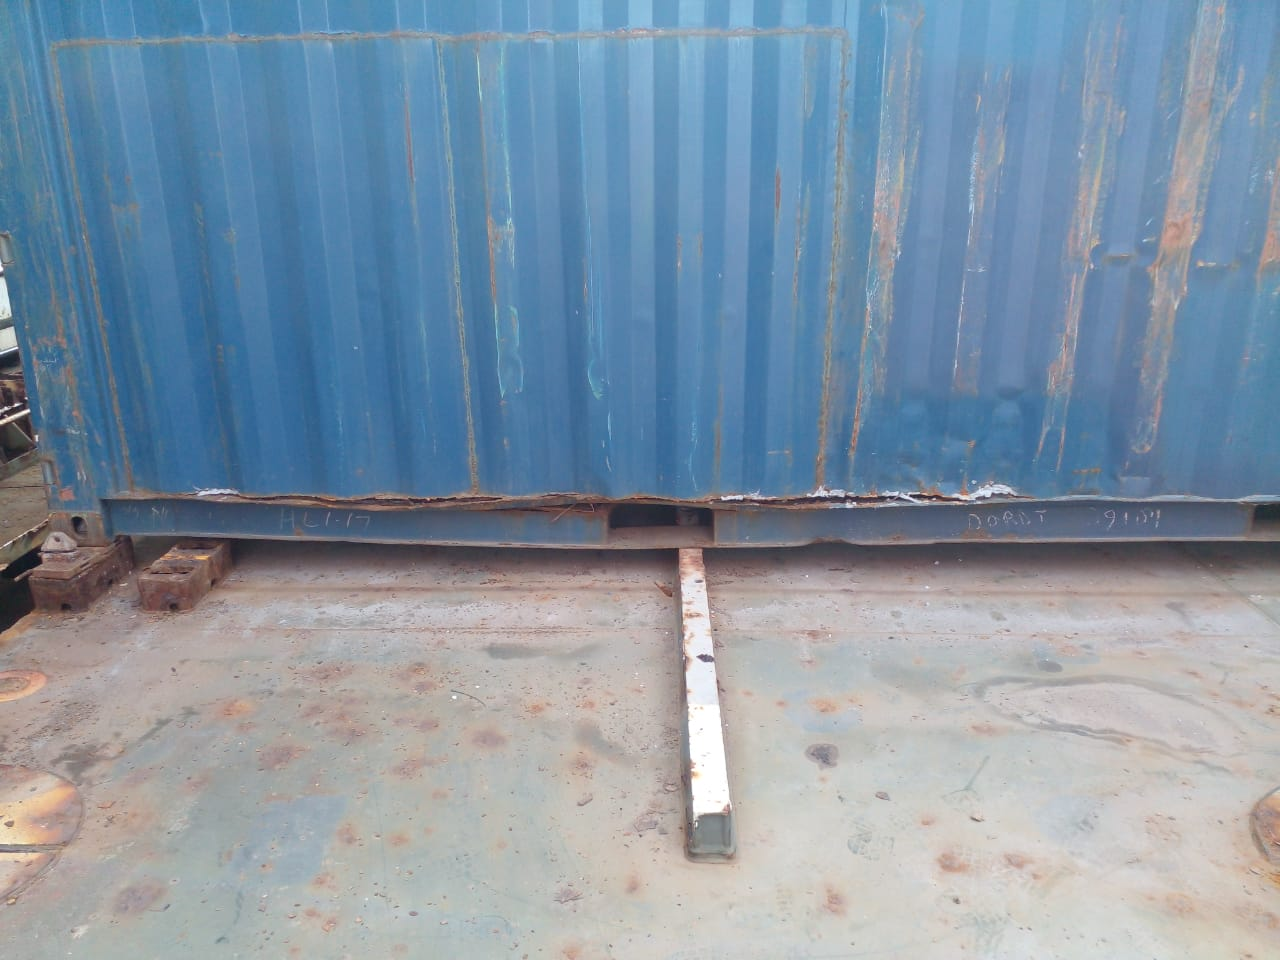dented: (883, 142, 1226, 374)
